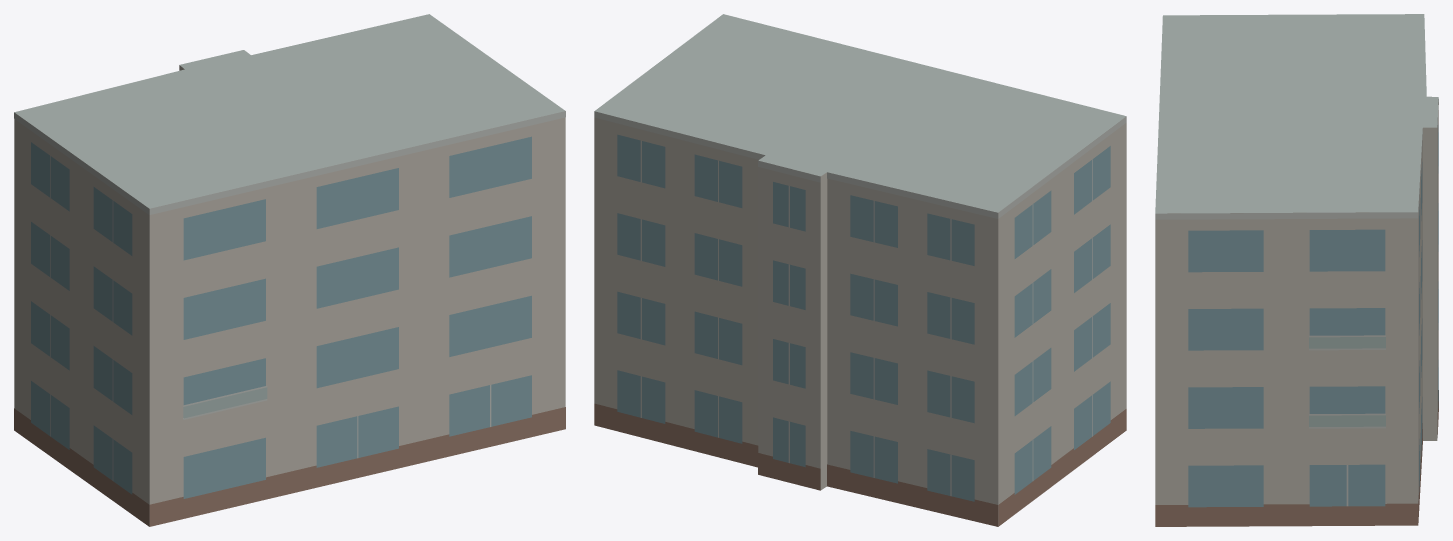
The model's file is survey-upis-32659470.glb.
The picture shows the model from 3 angles, left to right: view 1: azimuth 30°, elevation 25°; view 2: azimuth 150°, elevation 25°; view 3: azimuth 270°, elevation 25°; orthographic projection.
Parts seen in each view (by area): view 1: survey-upis-32659470.tmp; view 2: survey-upis-32659470.tmp; view 3: survey-upis-32659470.tmp.
Boxes of the visible parts, <box> form: survey-upis-32659470.tmp: <box>14,14,565,526</box>; survey-upis-32659470.tmp: <box>594,14,1126,526</box>; survey-upis-32659470.tmp: <box>1155,14,1438,526</box>.
Bounding box in the file's own units: 16.67 × 12.2 × 10.01.
